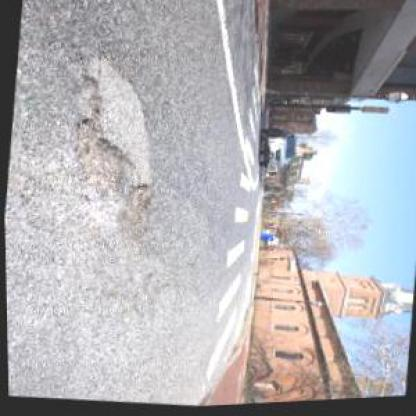pothole: (62, 111, 134, 193), (114, 180, 155, 245)
